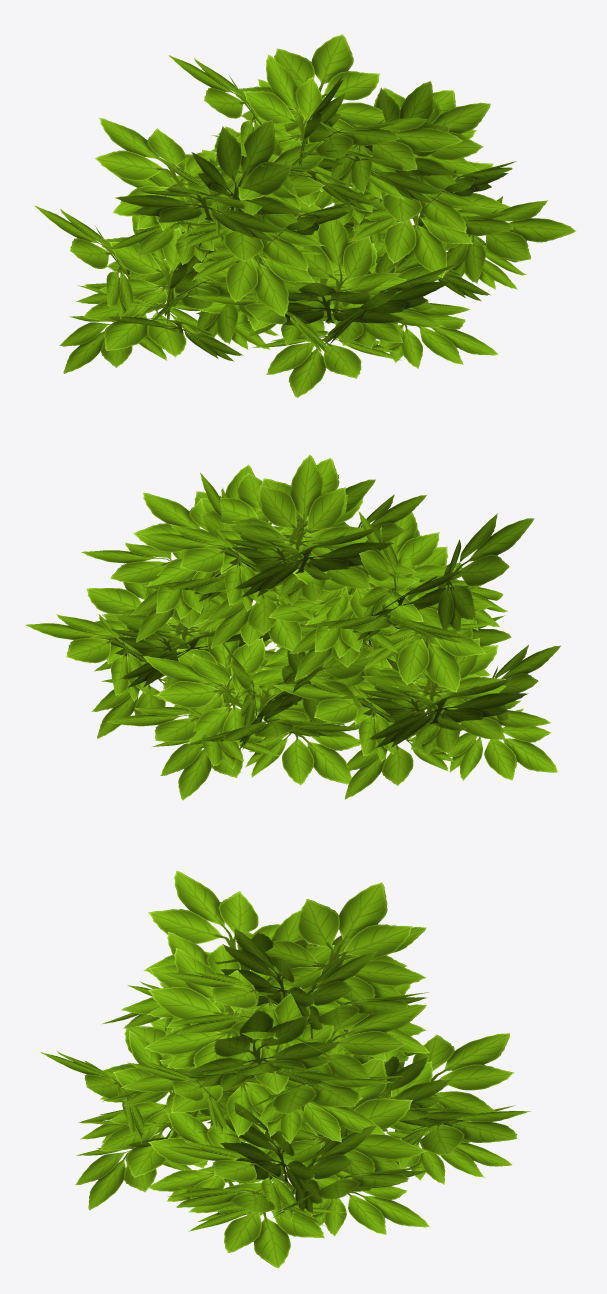
The model's file is Environment_Mesh_Bush1.FBX.
3 views of the same model, one above another, from view 1: azimuth 30°, elevation 25°; view 2: azimuth 150°, elevation 25°; view 3: azimuth 270°, elevation 25° (orthographic).
Parts seen in each view (by area): view 1: SmallBush; view 2: SmallBush; view 3: SmallBush.
Boxes of the visible parts, x1=… form: SmallBush: x1=34, y1=34, x2=576, y2=397; SmallBush: x1=25, y1=454, x2=560, y2=800; SmallBush: x1=40, y1=870, x2=530, y2=1268.
Size of the model in its own units: 868 by 398 by 810.
